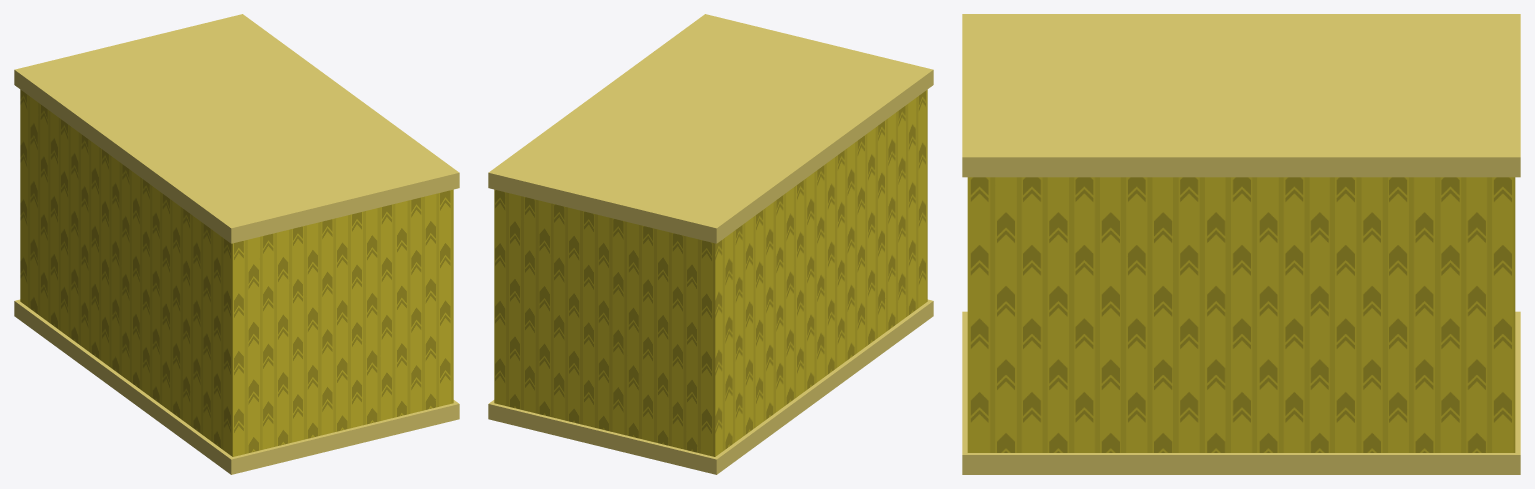
The model's file is bigPillar.fbx.
3 renders of one model, left to right at view 1: azimuth 30°, elevation 25°; view 2: azimuth 150°, elevation 25°; view 3: azimuth 270°, elevation 25°, orthographic. The views are drawn at different scales.
Visible parts, largest first — view 1: Cube, 立方体, 立方体.001; view 2: Cube, 立方体, 立方体.001; view 3: Cube, 立方体, 立方体.001.
Part boxes in pixels (x1,y1,x2,y2): Cube: [20, 89, 453, 456]; 立方体: [14, 14, 459, 243]; 立方体.001: [14, 299, 459, 474]; Cube: [494, 89, 927, 456]; 立方体: [488, 14, 933, 243]; 立方体.001: [488, 299, 933, 474]; Cube: [967, 177, 1515, 452]; 立方体: [962, 14, 1520, 177]; 立方体.001: [962, 311, 1520, 474].
Bounding box in the file's own units: 620 × 640 × 1020.
